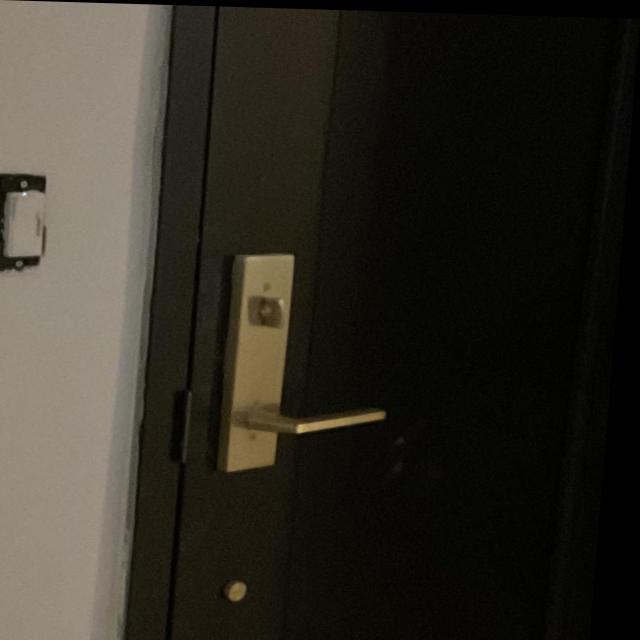door_handle: (229, 377, 411, 453)
